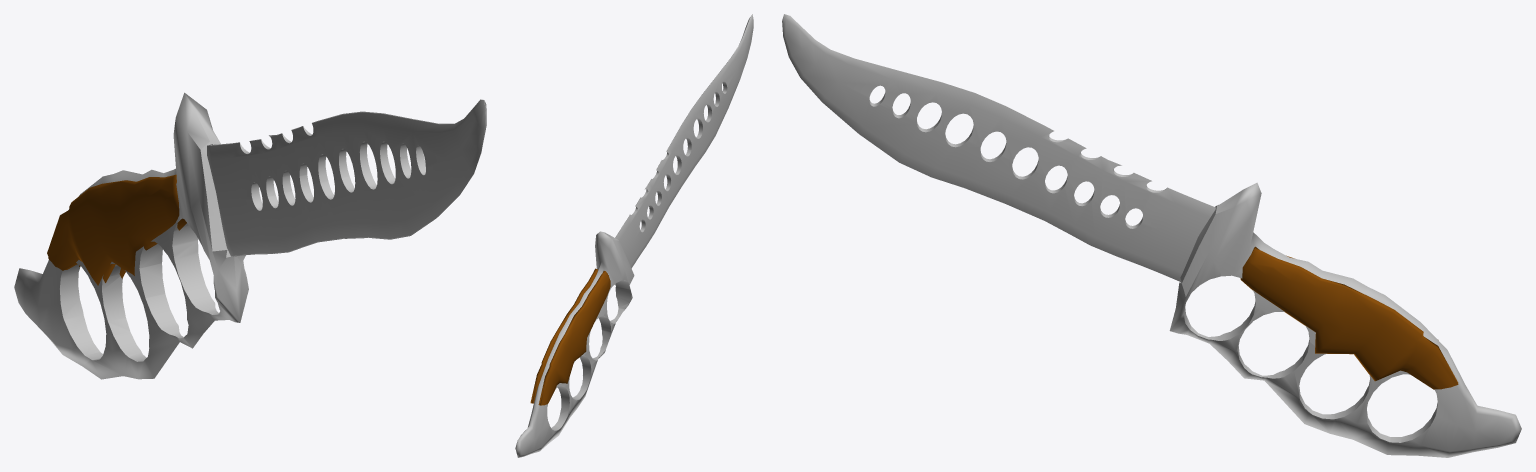
Rendered from knife.fbx.
The picture shows the model from 3 angles, left to right: view 1: azimuth 30°, elevation 25°; view 2: azimuth 150°, elevation 25°; view 3: azimuth 270°, elevation 25°; orthographic projection. The views are drawn at different scales.
Visible parts, largest first — view 1: polySurface9; view 2: polySurface9; view 3: polySurface9.
Part boxes in pixels (x1,y1,x2,y2): polySurface9: (14, 92, 486, 379); polySurface9: (515, 14, 753, 457); polySurface9: (782, 14, 1521, 457).
Size of the model in its own units: 1.17 by 15.14 by 22.91.
